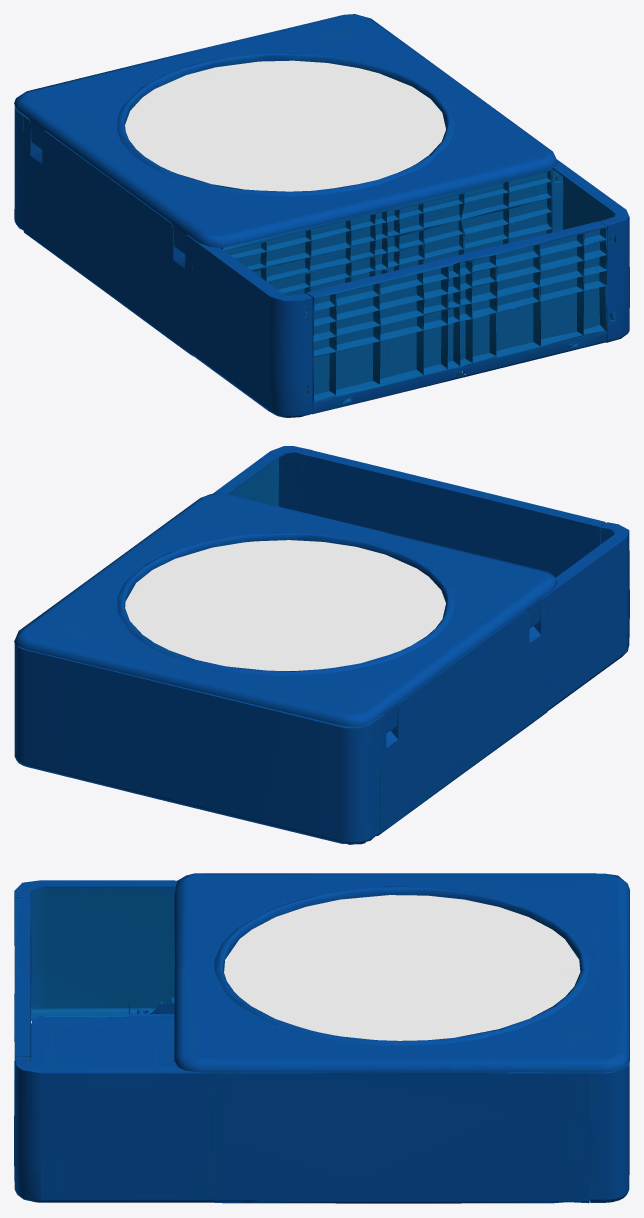
The model's file is 12 - IVÖSJÖN Mirror cabinet with 1 door - blue 44x15x59 cm.glb.
3 renders of one model, top to bottom at view 1: azimuth 30°, elevation 25°; view 2: azimuth 150°, elevation 25°; view 3: azimuth 270°, elevation 25°, orthographic. The views are drawn at different scales.
Visible parts, largest first — view 1: ASY_ART_50609873_S01_NV01, ASY_LPT01_50609873_S01_NV01; view 2: ASY_ART_50609873_S01_NV01, ASY_LPT01_50609873_S01_NV01; view 3: ASY_ART_50609873_S01_NV01, ASY_LPT01_50609873_S01_NV01.
Part boxes in pixels (x1,y1,x2,y2): ASY_ART_50609873_S01_NV01: [14, 105, 629, 417]; ASY_LPT01_50609873_S01_NV01: [14, 14, 557, 253]; ASY_ART_50609873_S01_NV01: [14, 446, 629, 844]; ASY_LPT01_50609873_S01_NV01: [14, 493, 557, 733]; ASY_ART_50609873_S01_NV01: [14, 880, 629, 1203]; ASY_LPT01_50609873_S01_NV01: [174, 873, 629, 1072].
Size of the model in its own units: 0.4411 by 0.1545 by 0.5937.
Materials: 3 (3 with a texture image).
